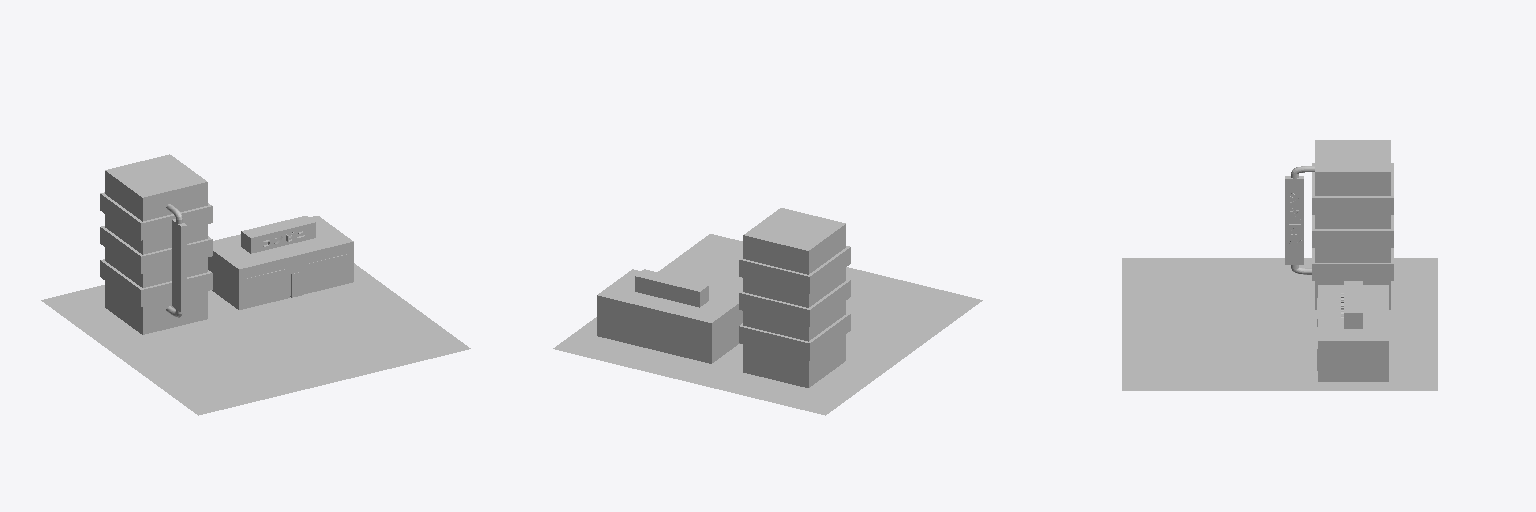
File: DioramaCyberpunk.obj
3 renders of one model, left to right at view 1: azimuth 30°, elevation 25°; view 2: azimuth 150°, elevation 25°; view 3: azimuth 270°, elevation 25°, orthographic.
Visible parts, largest first — view 1: Plane_Plane, Edificio_Cube.007, TiendaCuerpo_Cube.002, EdificioVentanas_Cube.008, PasoPeaton_Plane.001, LetreroTienda_Cube.003, Cube_Cube.011, VentanaTienda1_Cube.005, VentanaTienda2_Cube.006; view 2: Plane_Plane, Edificio_Cube.007, TiendaCuerpo_Cube.002, EdificioVentanas_Cube.008, LetreroTienda_Cube.003, PasoPeaton_Plane.001; view 3: Plane_Plane, Edificio_Cube.007, TiendaCuerpo_Cube.002, PasoPeaton_Plane.001, EdificioVentanas_Cube.008, Cube_Cube.011, LetreroTienda_Cube.003.
Boxes of the visible parts, box(x1,y1,x2,y2) form: Plane_Plane: box(41, 263, 470, 415); Edificio_Cube.007: box(105, 154, 207, 334); TiendaCuerpo_Cube.002: box(208, 216, 353, 309); EdificioVentanas_Cube.008: box(100, 192, 212, 306); PasoPeaton_Plane.001: box(249, 289, 445, 377); LetreroTienda_Cube.003: box(241, 216, 315, 253); Cube_Cube.011: box(172, 219, 186, 312); VentanaTienda1_Cube.005: box(245, 269, 286, 300); VentanaTienda2_Cube.006: box(308, 254, 349, 285); Plane_Plane: box(553, 234, 982, 415); Edificio_Cube.007: box(743, 208, 845, 387); TiendaCuerpo_Cube.002: box(597, 269, 742, 363); EdificioVentanas_Cube.008: box(739, 246, 850, 360); LetreroTienda_Cube.003: box(635, 269, 708, 307); PasoPeaton_Plane.001: box(679, 241, 742, 293); Plane_Plane: box(1122, 258, 1437, 390); Edificio_Cube.007: box(1315, 140, 1390, 309); TiendaCuerpo_Cube.002: box(1318, 285, 1388, 381); PasoPeaton_Plane.001: box(1130, 326, 1299, 380); EdificioVentanas_Cube.008: box(1312, 163, 1393, 280); Cube_Cube.011: box(1285, 176, 1303, 264); LetreroTienda_Cube.003: box(1344, 281, 1362, 328).
Bounding box in the file's own units: 14 × 6.73 × 14.